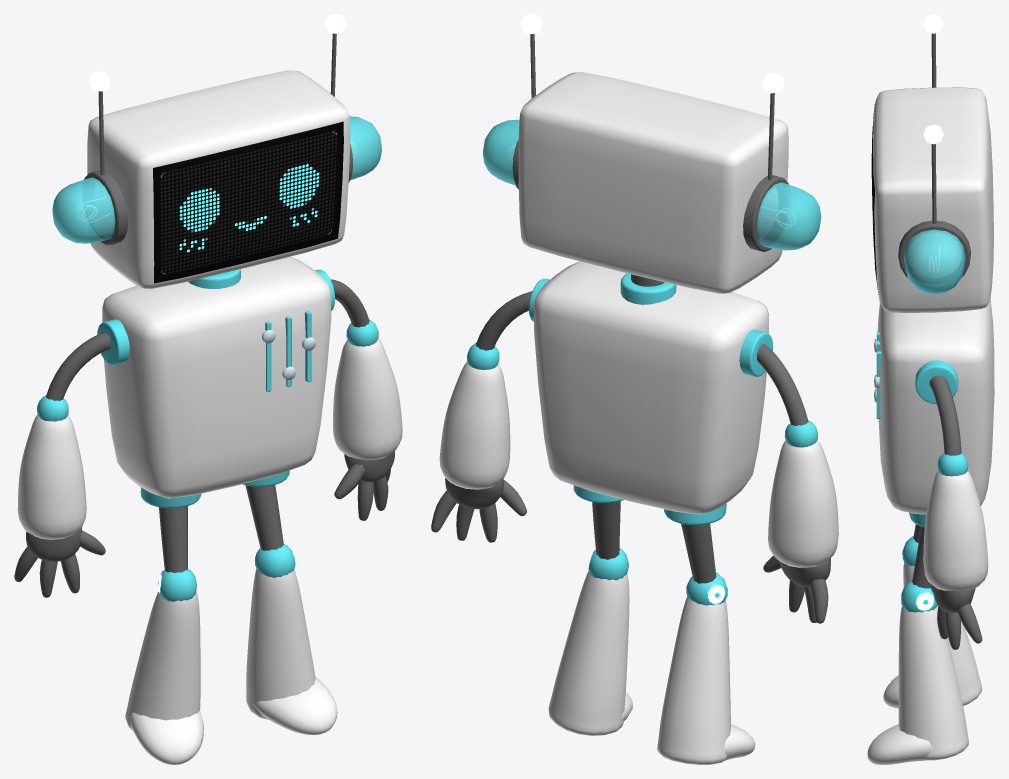
Rendered from robot.glb.
The picture shows the model from 3 angles, left to right: view 1: azimuth 30°, elevation 25°; view 2: azimuth 150°, elevation 25°; view 3: azimuth 270°, elevation 25°; orthographic projection. The views are drawn at different scales.
Parts seen in each view (by area): view 1: Object_3, Object_2, Object_4; view 2: Object_3, Object_4; view 3: Object_3, Object_4, Object_2.
Boxes of the visible parts, box(x1,y1,x2,y2) form: Object_3: box(14, 14, 402, 764); Object_2: box(153, 121, 343, 283); Object_4: box(52, 116, 381, 243); Object_3: box(431, 14, 838, 764); Object_4: box(483, 119, 821, 250); Object_3: box(867, 14, 994, 764); Object_4: box(904, 229, 965, 294); Object_2: box(871, 104, 878, 297).
Bounding box in the file's own units: 137 × 239 × 41.54.
Materials: 3 (3 with a texture image).
